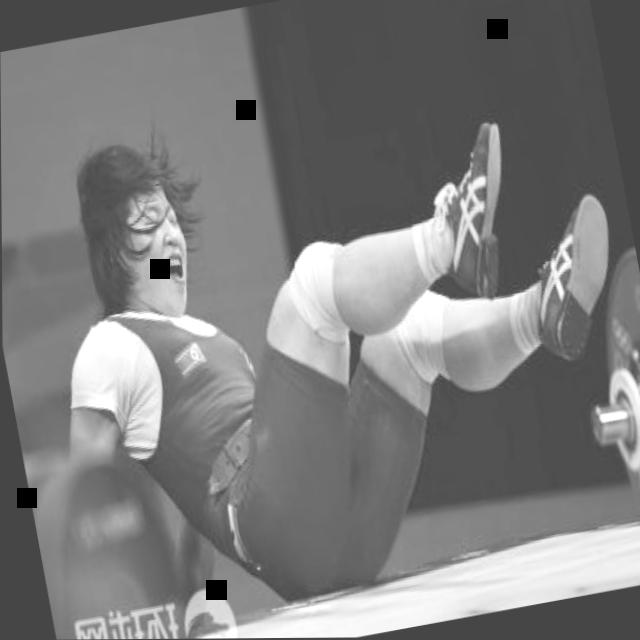Fall-Detected: (0, 50, 640, 640)
